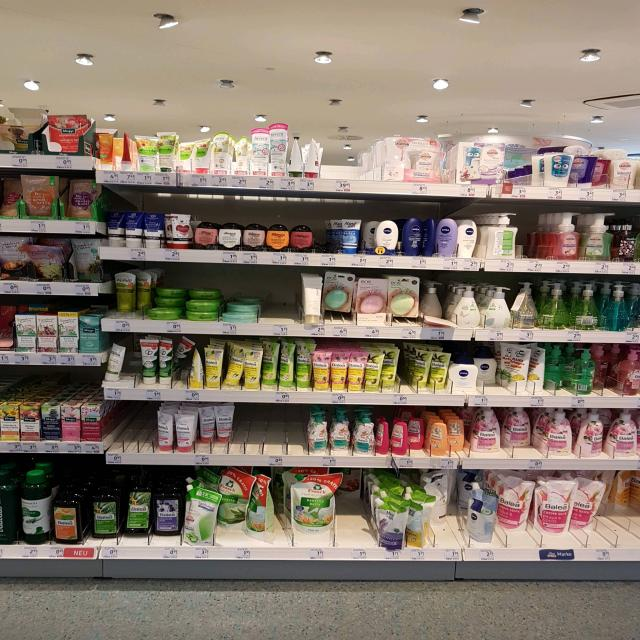void: (326, 124, 378, 198), (340, 472, 373, 564), (111, 402, 152, 464), (267, 268, 298, 337), (506, 138, 532, 200), (523, 209, 546, 273), (242, 408, 264, 469), (268, 406, 288, 471), (293, 405, 312, 470)
